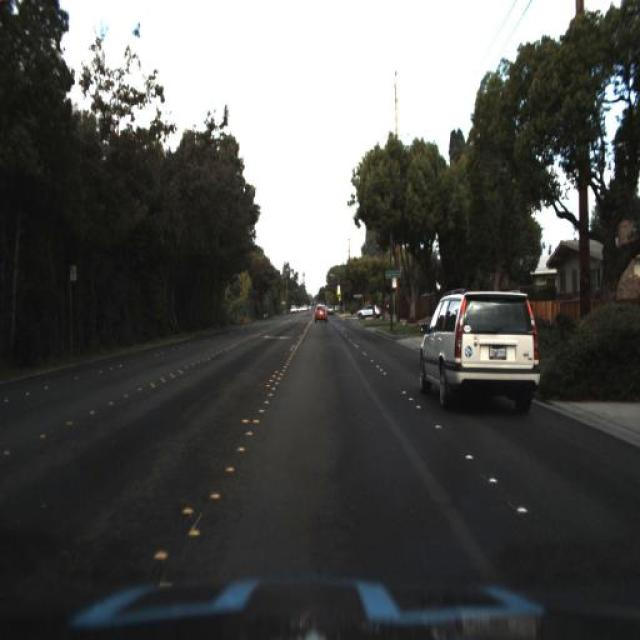car: (419, 280, 540, 416), (354, 298, 384, 324), (311, 296, 330, 332)
